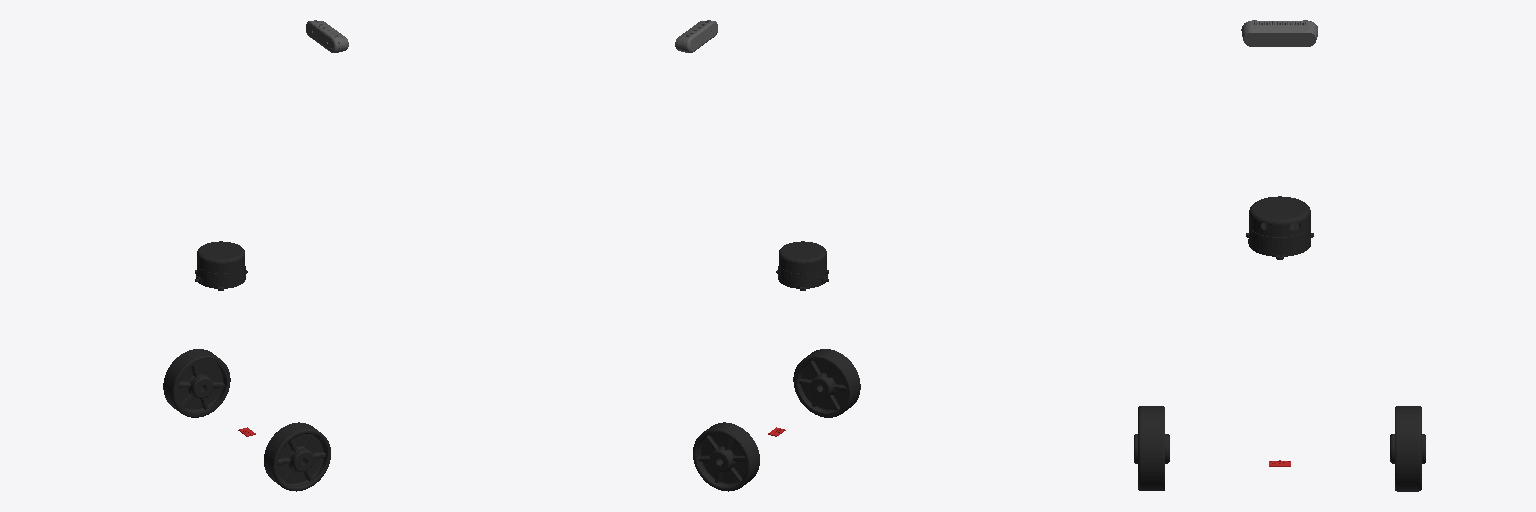
The robot description file, URDF, robot "serving_robot_v5":
<?xml version="1.0" encoding="utf-8"?>

<robot name="serving_robot_v5">
  <link name="base_link">
    <visual>
      <origin xyz="0 0 0" rpy="0 0 0" />
      <geometry>
        <mesh filename="package://serving_robot_v5/description/meshes/stl/base_link.STL" />
      </geometry>
      <material name="Aluminum">
        <color rgba="0.48235 0.55686 0.66274 1" />
      </material>
    </visual>

    <collision>
      <origin xyz="0 0 0" rpy="0 0 0" />
      <geometry>
        <mesh filename="package://serving_robot_v5/description/meshes/stl/base_link.STL" />
      </geometry>
    </collision>

    <inertial>
      <origin xyz="-0.0024446 8.5105E-05 0.38945" rpy="0 0 0" />
      <mass value="24.495" />
      <inertia
        ixx="0.42576" ixy="0.00069367" ixz="0.0042087"
        iyy="0.41821" iyz="0.00051327"
        izz="0.64947" />
    </inertial>    
  </link>

  <link name="wheel_l">
    <visual>
      <origin xyz="0 0 0" rpy="0 0 0" />
      <geometry>
        <mesh filename="package://serving_robot_v5/description/meshes/stl/wheel_l.STL" />
      </geometry>
      <material name="Rubber">
        <color rgba="0.2 0.2 0.2 1" />
      </material>
    </visual>
    <collision>
      <origin xyz="0 0 0" rpy="0 0 0" />
      <geometry>
        <mesh filename="package://serving_robot_v5/description/meshes/stl/wheel_l.STL" />
      </geometry>
    </collision>
    <inertial>
      <origin xyz="-8.3504E-06 -0.02404 -3.3536E-05" rpy="0 0 0" />
      <mass value="0.16934" />
      <inertia
        ixx="0.00012263" ixy="-9.3922E-09" ixz="4.0982E-08"
        iyy="0.00022153" iyz="-3.7744E-08"
        izz="0.00012278" />
    </inertial>
  </link>

  <link name="wheel_r">
    <visual>
      <origin yz="0 0 0" rpy="0 0 0" />
      <geometry>
        <mesh filename="package://serving_robot_v5/description/meshes/stl/wheel_r.STL" />
      </geometry>
      <material name="Rubber">
        <color rgba="0.2 0.2 0.2 1" />
      </material>
    </visual>
    <collision>
      <origin xyz="0 0 0" rpy="0 0 0" />
      <geometry>
        <mesh filename="package://serving_robot_v5/description/meshes/stl/wheel_r.STL" />
      </geometry>
    </collision>
    <inertial>
      <origin xyz="-2.8505E-05 0.02404 1.9541E-05" rpy="0 0 0" />
      <mass value="0.16934" />
      <inertia
        ixx="0.00012274" ixy="3.2077E-08" ixz="-8.1538E-08"
        iyy="0.00022153" iyz="-2.1997E-08"
        izz="0.00012267" />
    </inertial>
  </link>

  <link name="laser_link">
    <visual>
      <origin xyz="0 0 0" rpy="0 0 0" />
      <geometry>
        <mesh filename="package://serving_robot_v5/description/meshes/stl/laser_link.STL" />
      </geometry>
      <material name="LaserPlastic">
        <color rgba="0.2 0.2 0.2 1" />
      </material>
    </visual>
    <collision>
      <origin xyz="0 0 0" rpy="0 0 0" />
      <geometry>
        <mesh filename="package://serving_robot_v5/description/meshes/stl/laser_link.STL" />
      </geometry>
    </collision>
    <inertial>
      <origin xyz="0.0012332 0.00013829 -0.010655" rpy="0 0 0" />
      <mass value="0.18368" />
      <inertia
        ixx="6.732E-05" ixy="3.5606E-07" ixz="1.6764E-08"
        iyy="6.7746E-05" iyz="2.9723E-08"
        izz="0.000122" />
    </inertial>
  </link>

  <link name="imu_link">
    <visual>
      <origin xyz="0 0 0" rpy="0 0 0" />
      <geometry>
        <mesh filename="package://serving_robot_v5/description/meshes/stl/imu_link.STL" />
      </geometry>
      <material name="ImuPlastic">
        <color rgba="0.8 0.2 0.2 1" />
      </material>
    </visual>
    <collision>
      <origin xyz="0 0 0" rpy="0 0 0" />
      <geometry>
        <mesh ilename="package://serving_robot_v5/description/meshes/stl/imu_link.STL" />
      </geometry>
    </collision>
    <inertial>
      <origin xyz="8.6986E-05 -7.9439E-05 -0.00073949" rpy="0 0 0" />
      <mass value="0.0007385" />
      <inertia
        ixx="3.8413E-08" ixy="1.4588E-13" ixz="-9.3238E-13"
        iyy="1.3758E-08" iyz="-1.5924E-14"
        izz="5.1863E-08" />
    </inertial>
  </link>

  <link name="camera_link">
    <visual>
      <origin xyz="0 0 0" rpy="0 0 0" />
      <geometry>
        <mesh filename="package://serving_robot_v5/description/meshes/stl/camera_link.STL" />
      </geometry>
      <material name="CameraPlastic">
        <color rgba="0.4 0.4 0.4 1" />
      </material>
    </visual>
    <collision>
      <origin xyz="0 0 0" rpy="0 0 0" />
      <geometry>
        <mesh filename="package://serving_robot_v5/description/meshes/stl/camera_link.STL" />
      </geometry>
    </collision>
    <inertial>
      <origin xyz="-0.0042528 -0.001646 -0.0018368" rpy="0 0 0" />
      <mass value="0.044752" />
      <inertia
        ixx="2.7278E-05" ixy="2.4434E-07" ixz="-1.1666E-09"
        iyy="3.9447E-06" iyz="-2.7875E-09"
        izz="2.7362E-05" />
    </inertial>
  </link>

 <!-- for joint -->
  <joint name="base_to_wheel_r" type="continuous">
    <parent link="base_link" />
    <child link="wheel_r" />
    <origin xyz="0.045002 -0.17387 0.04999" rpy="0 0 0" />
    <axis xyz="0 1 0" />
    <dynamics
      friction="0.8"
      damping="0.7" />
  </joint>

  <joint name="base_to_wheel_l" type="continuous">
    <parent link="base_link" />
    <child link="wheel_l" />
    <origin xyz="0.045002 0.17397 0.04999" rpy="0 0 0" />
    <axis xyz="0 1 0" />
    <dynamics
      friction="0.8"
      damping="0.7" />
  </joint>

  <joint name="laser_joint" type="fixed">
    <parent link="base_link" />
    <child link="laser_link" />
    <axis xyz="1 0 0" />
    <origin xyz="-0.0017465 -0.00025802 0.32633" rpy="0 0 0" />
  </joint>

  <joint name="imu_joint" type="fixed">
    <parent link="base_link" />
    <child link="imu_link" />
    <origin xyz="0.044911 0 0.03109" rpy="0 0 0" />
    <axis xyz="0 0 0" />
  </joint>

  <joint name="camera_joint" type="fixed">
    <parent link="base_link" />
    <child link="camera_link" />
    <axis xyz="0 0 0" />
    <origin xyz="0.18646 0.0018922 0.65024" rpy="0 0.13004 0" />
  </joint>

    <!-- for gazebo -->
   <gazebo reference="base_link">
     <mu1>0.005</mu1>
     <mu2>0.005</mu2>
     <material>Gazebo/Brown</material>
   </gazebo>

   <gazebo reference="whee_l">
     <mu1>0.5</mu1>
     <mu2>0.5</mu2>
     <kp>500000.0</kp>
     <kd>10.0</kd>
     <material>Gazebo/Black</material>
    </gazebo>

   <gazebo reference="wheel_r">
     <mu1>0.5</mu1>
     <mu2>0.5</mu2>
     <kp>500000.0</kp>
     <kd>10.0</kd>
     <material>Gazebo/Black</material>
   </gazebo>

    <gazebo>
    <plugin name="differential_drive_controller" filename="libgazebo_ros_diff_drive.so">
        <alwaysOn>true</alwaysOn>
        <updateRate>20</updateRate>
        <legacyMode>false</legacyMode>
        <leftJoint>base_to_wheel_l</leftJoint>
        <rightJoint>base_to_wheel_r</rightJoint>
        <wheelSeparation>0.3</wheelSeparation>
        <wheelDiameter>0.1</wheelDiameter>
        <wheelTorque>20</wheelTorque>
        <wheelAcceleration>1</wheelAcceleration>
        <commandTopic>cmd_vel</commandTopic>
        <odometryTopic>odom</odometryTopic>
        <odometryFrame>odom</odometryFrame>
        <odometrySource>world</odometrySource>
        <publishOdomTF>true</publishOdomTF>
        <publishWheelJointState>true</publishWheelJointState>
        <publishWheelTF>false</publishWheelTF>
        <publishTf>true</publishTf>
        <robotBaseFrame>base_link</robotBaseFrame>
        <rosDebugLevel>na</rosDebugLevel>
    </plugin>
  </gazebo>

  <gazebo reference="camera_link">
     <sensor type = "camera" name = "camera1">
           <update_rate>30.0</update_rate>
           <camera name = "head">
             <horizontal_fov>1.3962634</horizontal_fov>
             <image>
               <width>800</width>
               <height>600</height>
               <format>R8G8B8</format>
         </image>
         <clip>
           <near>0.04</near>
           <far>300</far>
         </clip>
         <noise>
           <type>gaussian</type>
           <mean>0.0</mean>
           <stddev>0.007</stddev>
         </noise>
       </camera>

       <plugin name="camera_controller" filename="libgazebo_ros_camera.so">
         <alwaysOn>true</alwaysOn>
         <updateRate>0.0</updateRate>
         <cameraName>camera1</cameraName>
         <imageTopicName>image_raw</imageTopicName>
         <frameName>camera_link</frameName>
         <hackBaseline>0.07</hackBaseline>
         <distortionK1>0.0</distortionK1>
         <distortionK2>0.0</distortionK2>
         <distortionK3>0.0</distortionK3>
         <distortionT1>0.0</distortionT1>
         <distortionT2>0.0</distortionT2>
       </plugin>
      </sensor>
    </gazebo>

    <gazebo reference="laser_link">
        <material>Gazebo/Black</material>
        <sensor type="ray" name="lds_lfcd_sensor">
          <pose>0 0 0 0 0 0 </pose>
          <visualize>true</visualize>
          <update_rate>5</update_rate>
          <ray>
            <scan>
              <horizontal>
                <samples>360</samples>
                <resolution>1</resolution>
                <min_angle>0.0</min_angle>
                <max_angle>6.28319</max_angle>
              </horizontal>
            </scan>
            <range>
              <min>0.120</min>
              <max>3.5</max>
              <resolution>0.015</resolution>
            </range>
            <noise>
              <type>gaussian</type>
              <mean>0.0</mean>
              <stddev>0.01</stddev>
            </noise>
          </ray>
          <plugin name="gazebo_ros_lds_lfcd_controller" filename="libgazebo_ros_laser.so">
            <topicName>scan</topicName>
            <frameName>laser_link</frameName>
          </plugin>
        </sensor>
      </gazebo>

      <gazebo reference="imu_link">
        <material>Gazebo/Red</material>
          <gravity>true</gravity> 
        <sensor name="imu_sensor" type="imu">
          <always_on>true</always_on>
          <update_rate>100</update_rate>
          <visualize>true</visualize>
          <topic>__default_topic__</topic>
          <plugin filename="libgazebo_ros_imu_sensor.so" name="imu_plugin">
            <topicName>imu</topicName>
            <bodyName>imu_link</bodyName>
            <updateRateHZ>10.0</updateRateHZ>
            <gaussianNoise>0.0</gaussianNoise>
            <xyzOffset>0 0 0</xyzOffset>
            <rpyOffset>0 0 0</rpyOffset>
            <frameName>imu_to_link</frameName>
            <initialOrientationAsReference>false</initialOrientationAsReference>
          </plugin>
          <pose>0 0 0 0 0 0</pose>
        </sensor>
      </gazebo>

</robot>

--- Facts derived from the render (not from the file) ---
The picture shows the robot from 3 angles, left to right: view 1: azimuth 30°, elevation 25°; view 2: azimuth 150°, elevation 25°; view 3: azimuth 270°, elevation 25°; orthographic projection.
Robot: serving_robot_v5 — 6 links, 5 joints (2 continuous, 3 fixed); root link base_link; default pose: every joint at zero.
Visible links, largest first — view 1: wheel_l, wheel_r, laser_link, camera_link; view 2: wheel_r, wheel_l, laser_link, camera_link; view 3: laser_link, wheel_l, wheel_r, camera_link.
Boxes of the visible links, x1=… form: wheel_l: x1=163, y1=349, x2=230, y2=417; wheel_r: x1=264, y1=422, x2=330, y2=491; laser_link: x1=195, y1=241, x2=247, y2=290; camera_link: x1=306, y1=20, x2=348, y2=52; wheel_r: x1=793, y1=349, x2=860, y2=417; wheel_l: x1=693, y1=422, x2=759, y2=491; laser_link: x1=776, y1=241, x2=828, y2=290; camera_link: x1=675, y1=20, x2=717, y2=52; laser_link: x1=1246, y1=196, x2=1313, y2=259; wheel_l: x1=1390, y1=406, x2=1425, y2=491; wheel_r: x1=1134, y1=406, x2=1169, y2=490; camera_link: x1=1241, y1=20, x2=1317, y2=46.
Bounding box of the posed robot: 0.2402 × 0.3418 × 0.6625 m (x, y, z).
5 mesh visuals loaded from 6 distinct referenced files (5 binary STL); not drawn: 1 (reference not matched to a file when rendering).
